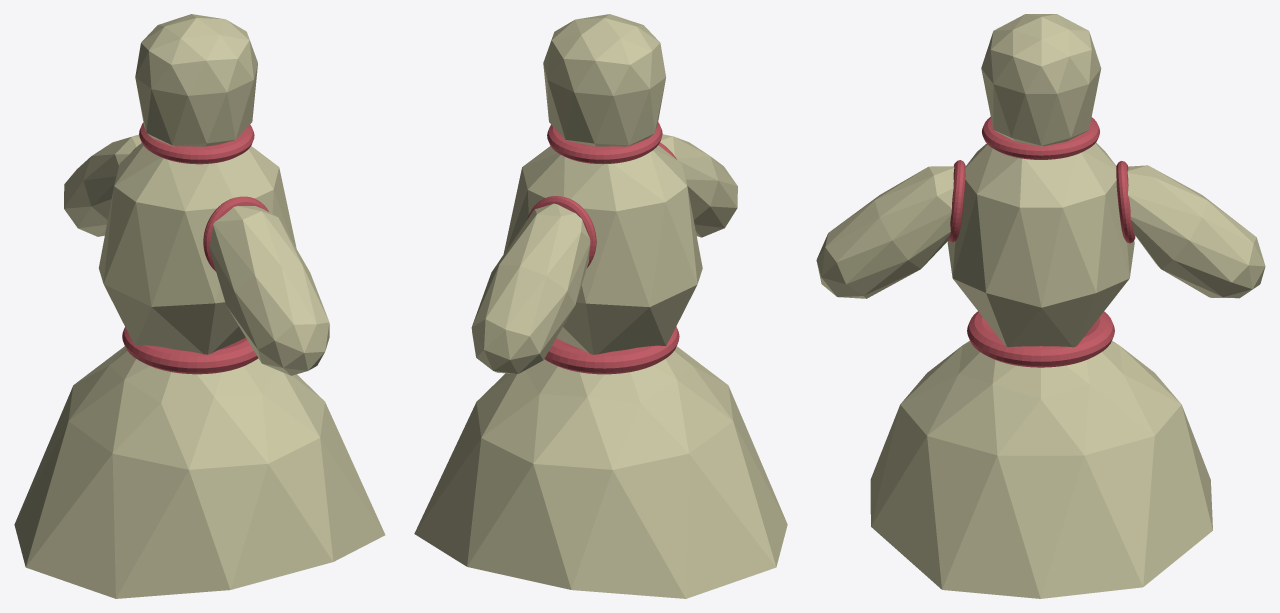
File: coloured_puppet_.fbx
The picture shows the model from 3 angles, left to right: view 1: azimuth 30°, elevation 25°; view 2: azimuth 150°, elevation 25°; view 3: azimuth 270°, elevation 25°; orthographic projection.
Parts seen in each view (by area): view 1: 1.Head; view 2: 1.Head; view 3: 1.Head.
Part boxes in pixels (<box>): 1.Head: <box>14,14,385,598</box>; 1.Head: <box>414,14,787,598</box>; 1.Head: <box>816,14,1265,598</box>.
Size of the model in its own units: 596 by 876 by 704.
